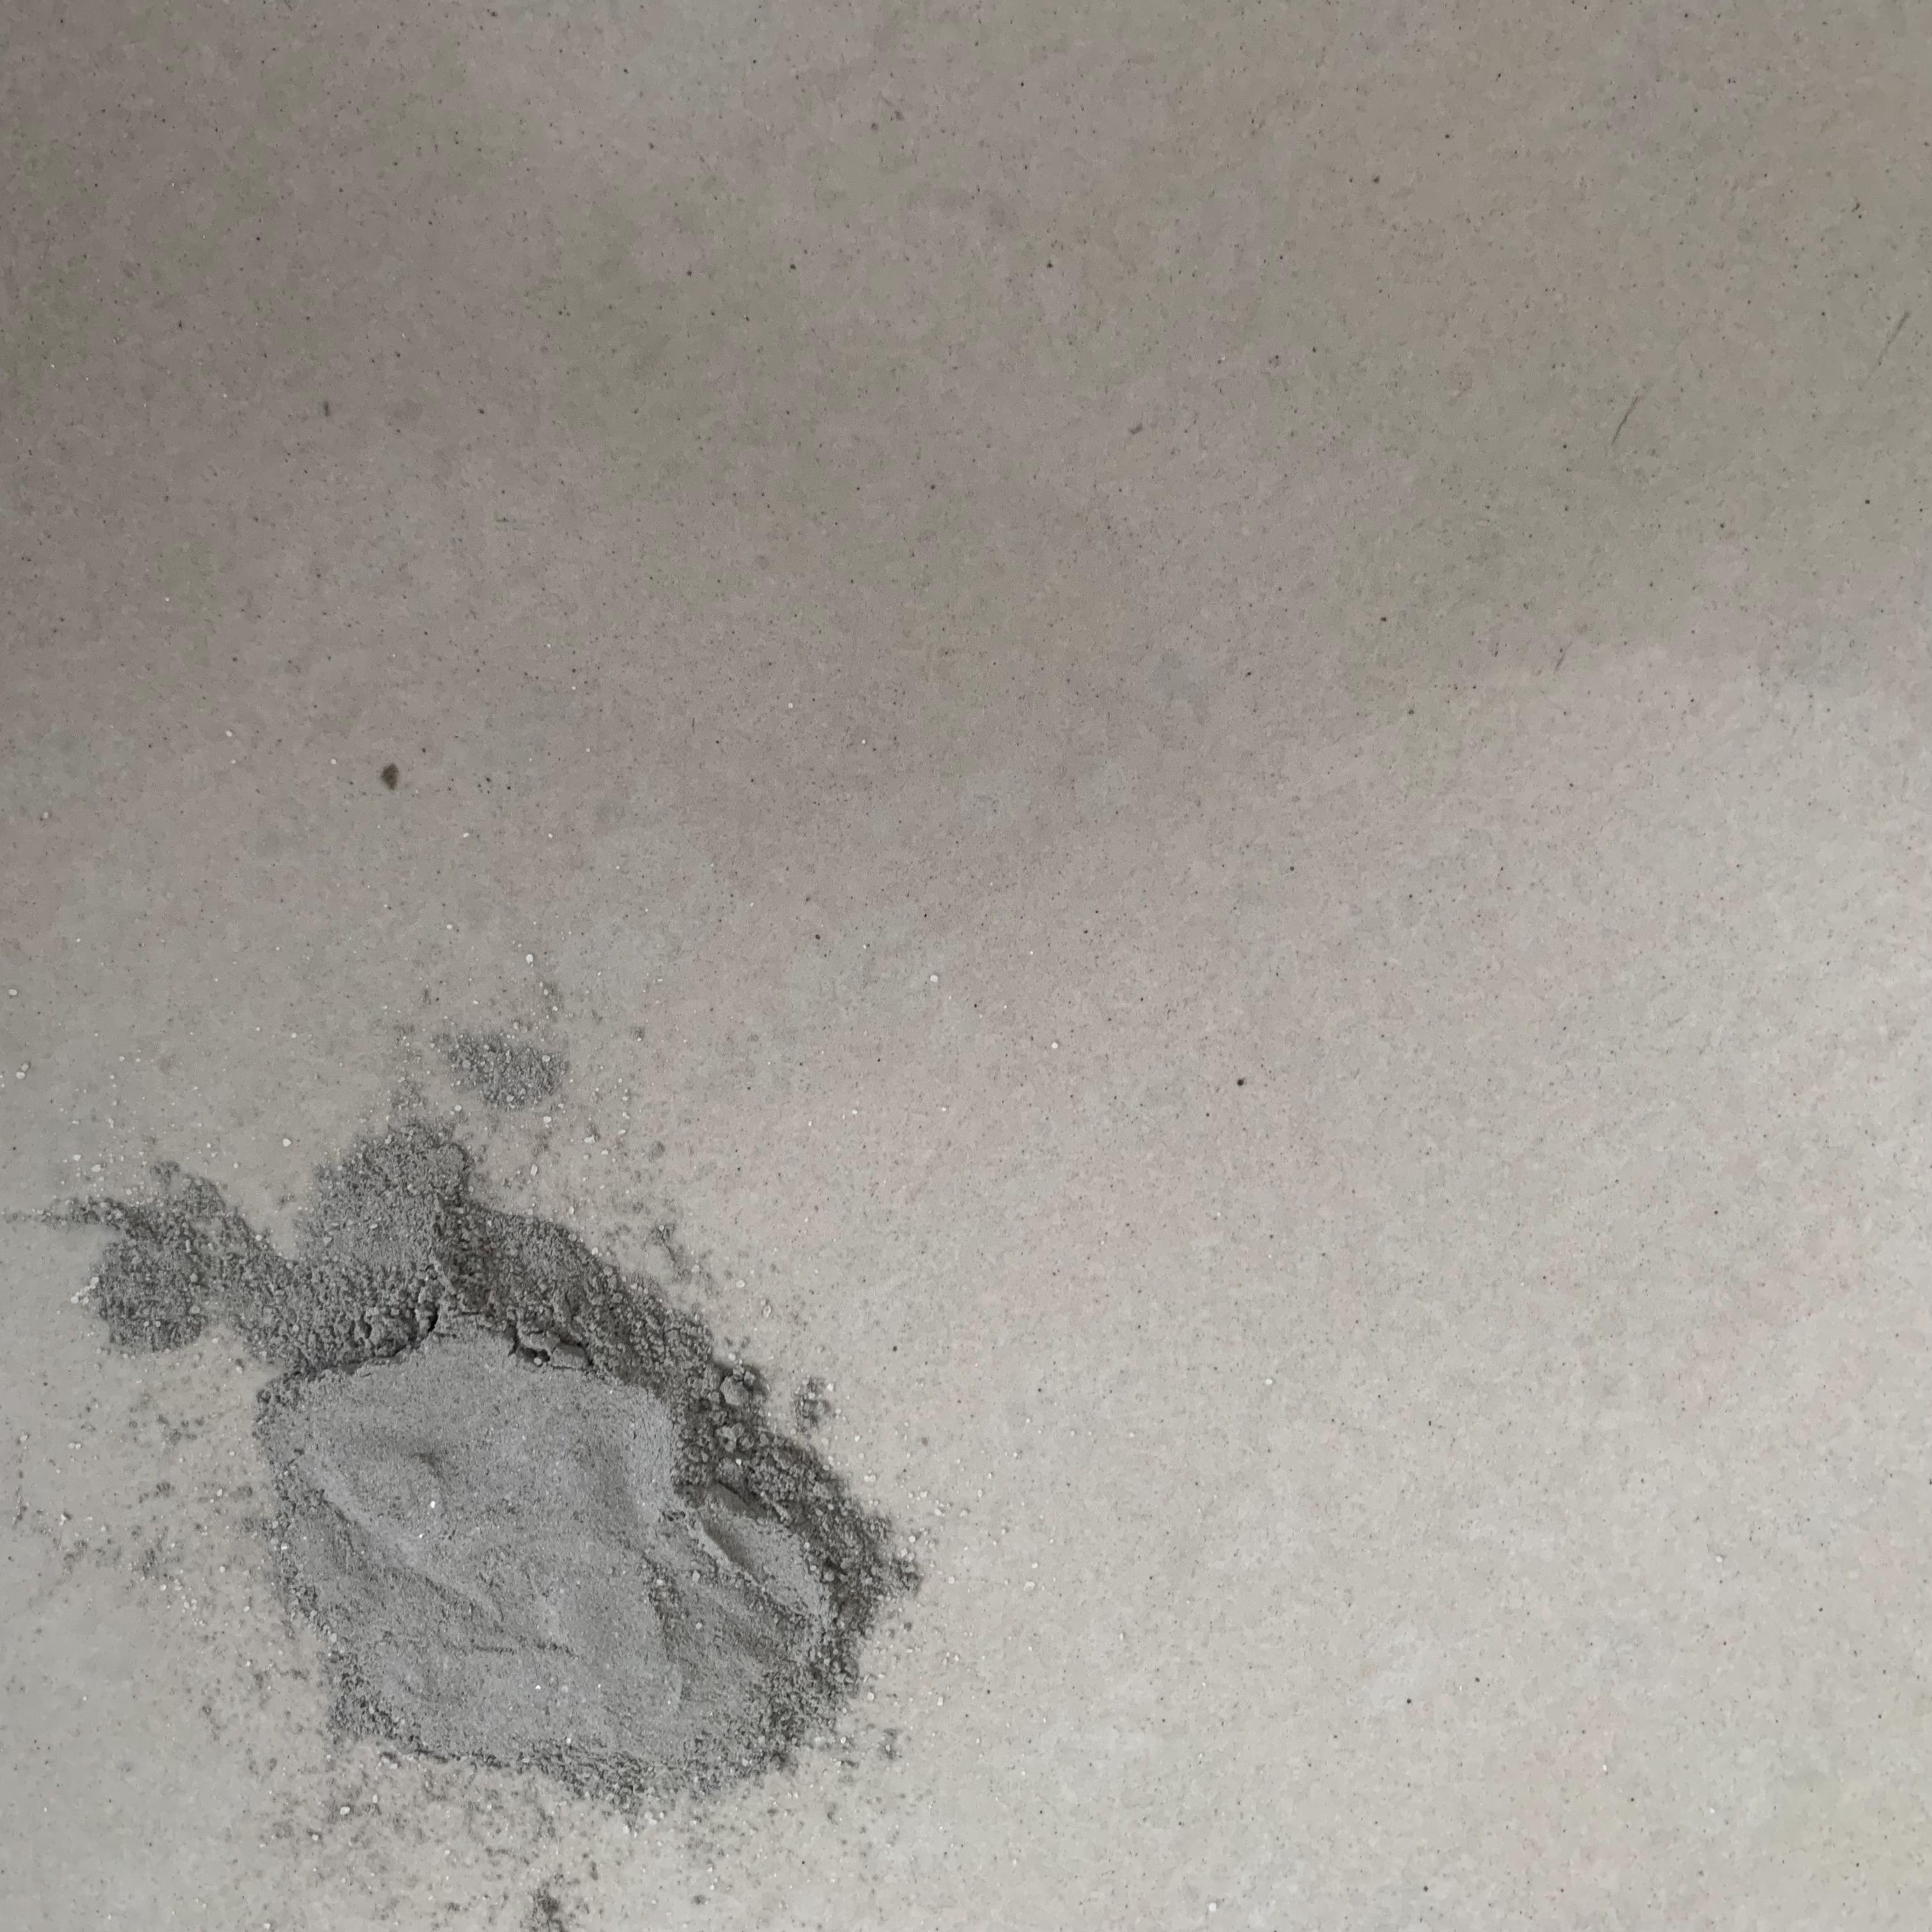ash pile: (2, 971, 927, 1932)
grey spot: (379, 764, 400, 791)
